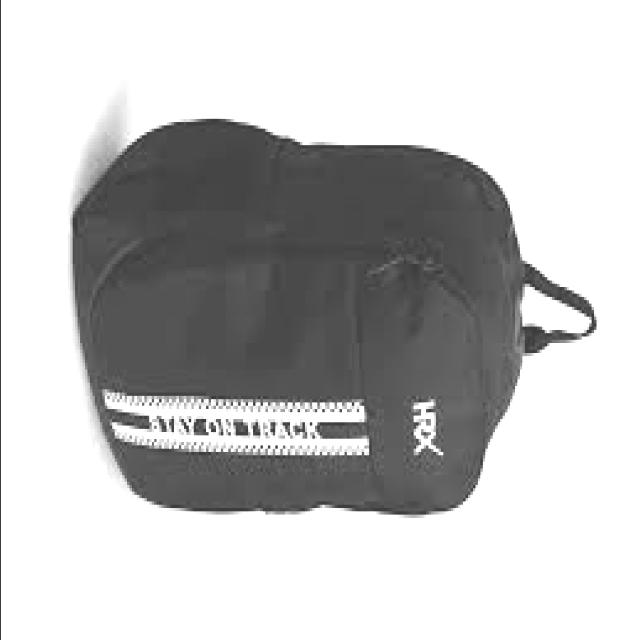backpack: (73, 117, 599, 519)
